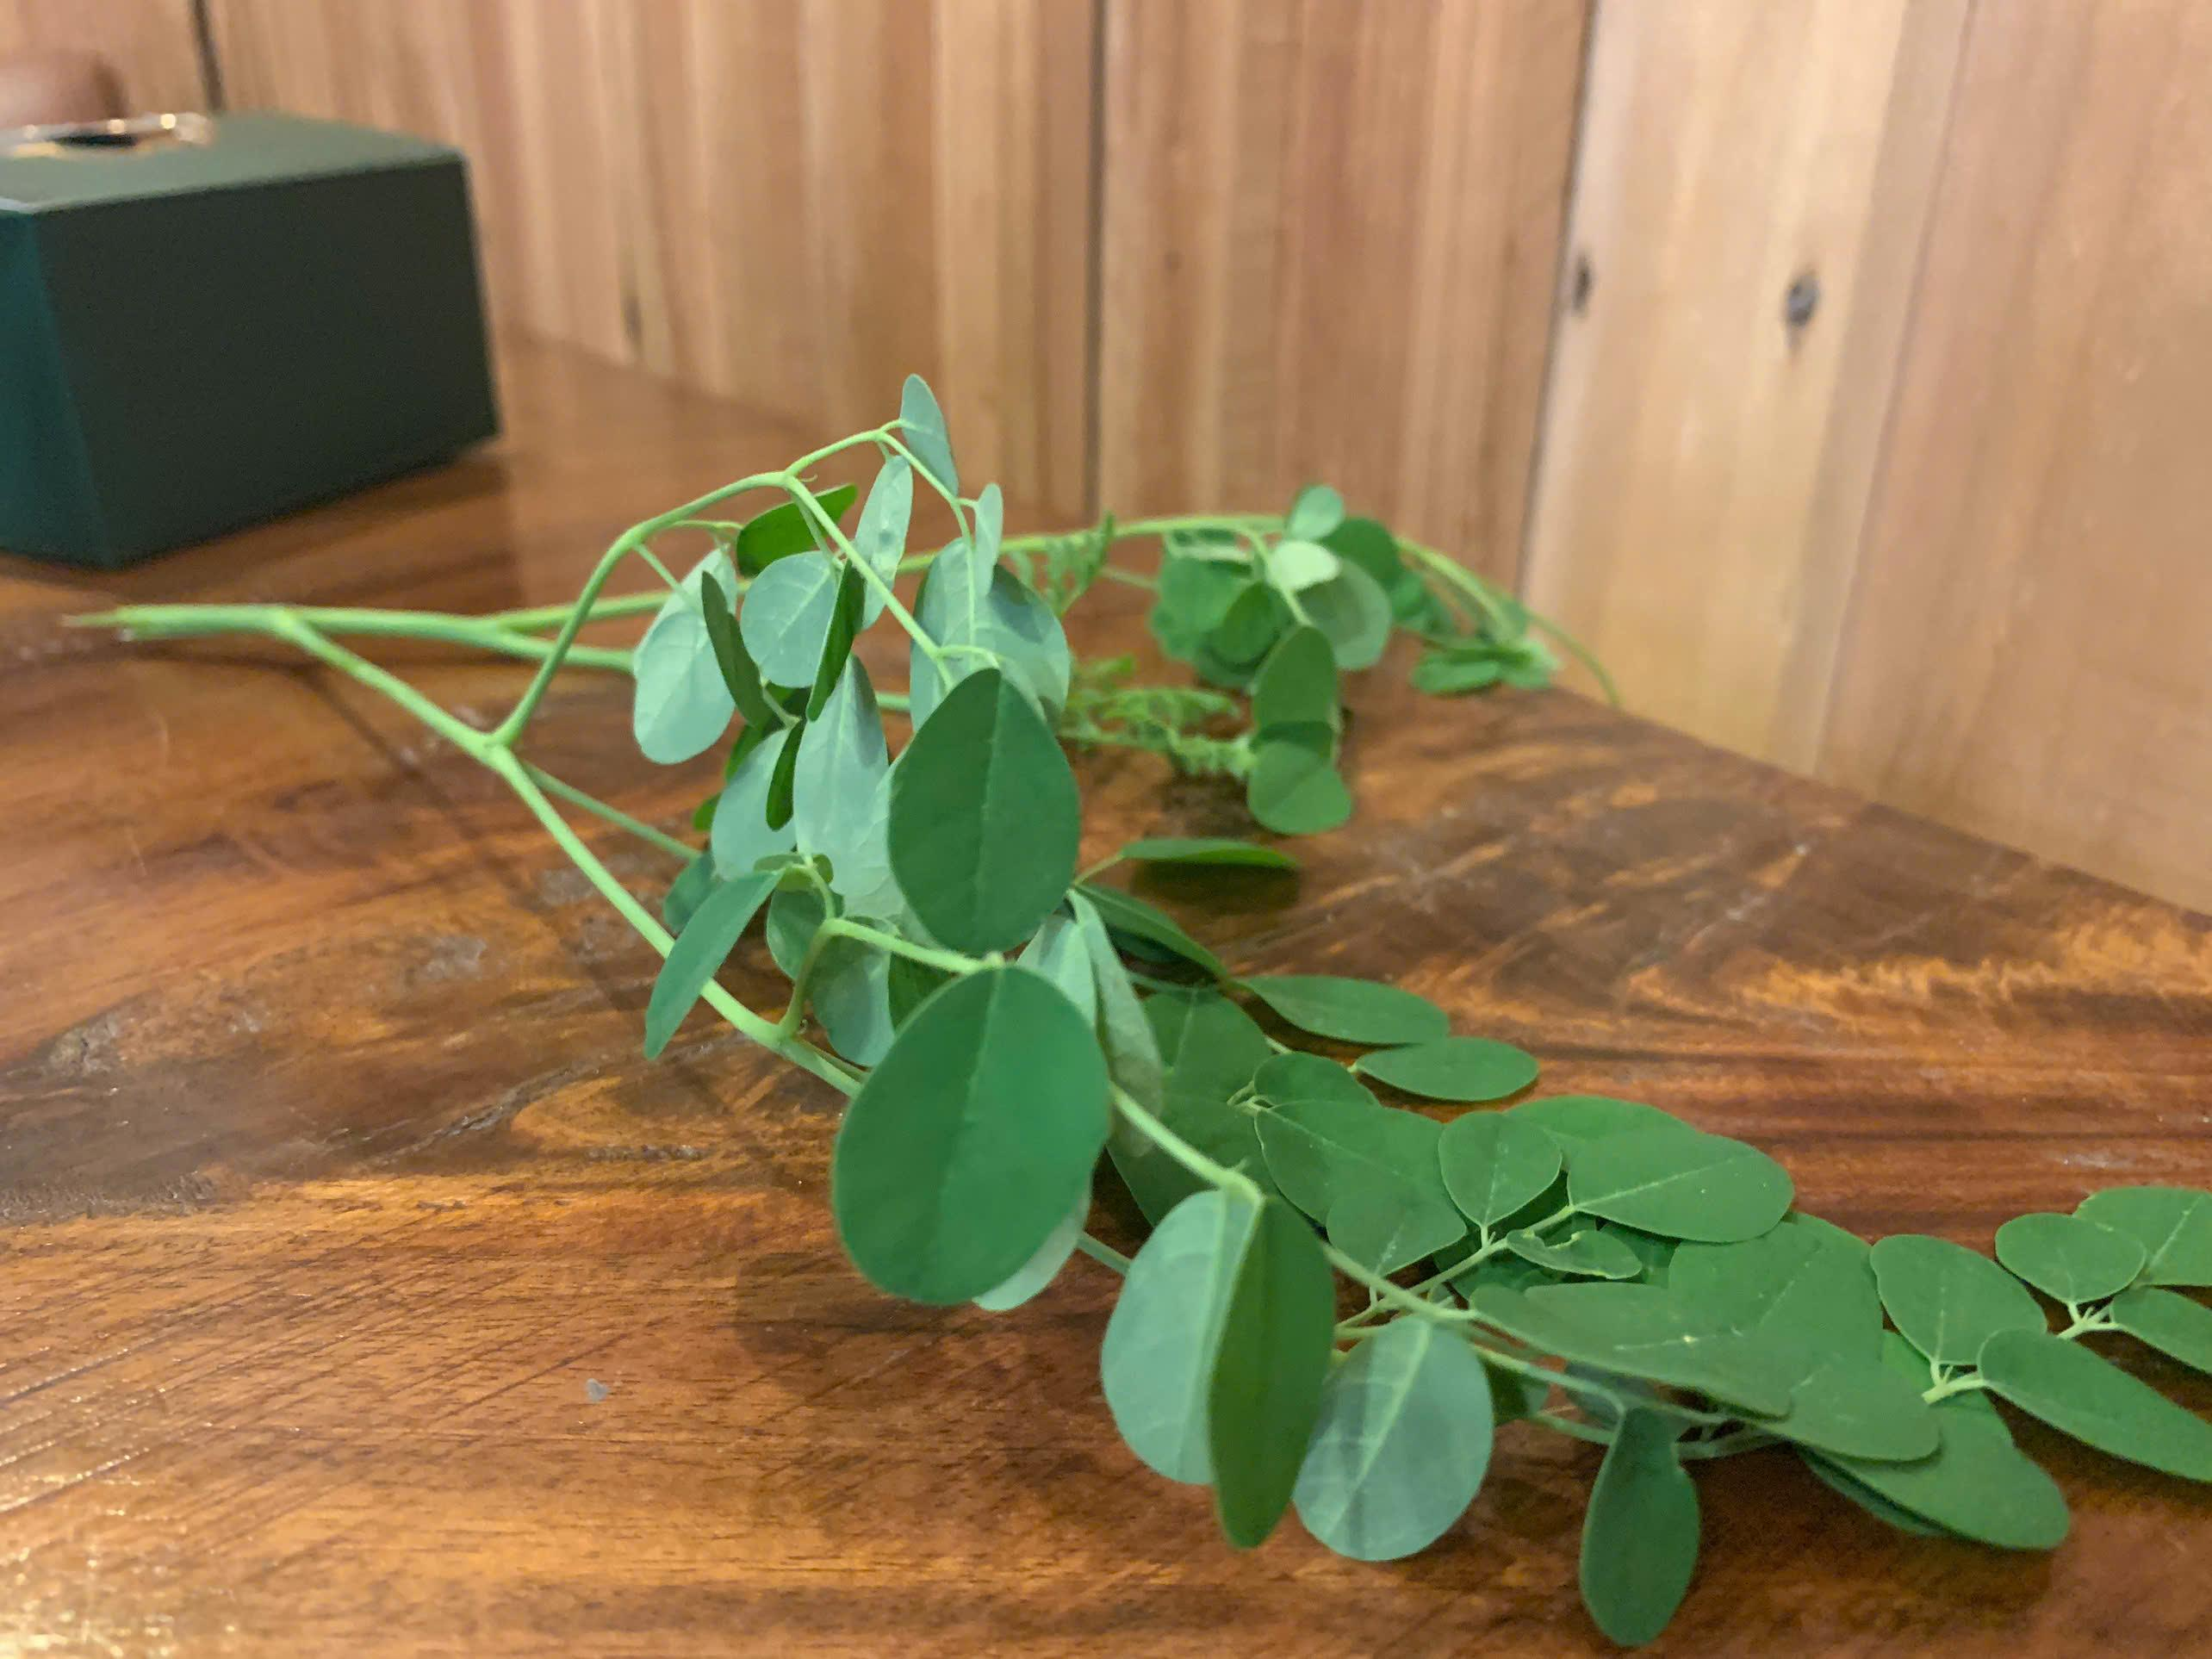Huu co: (289, 390, 2174, 1504)
